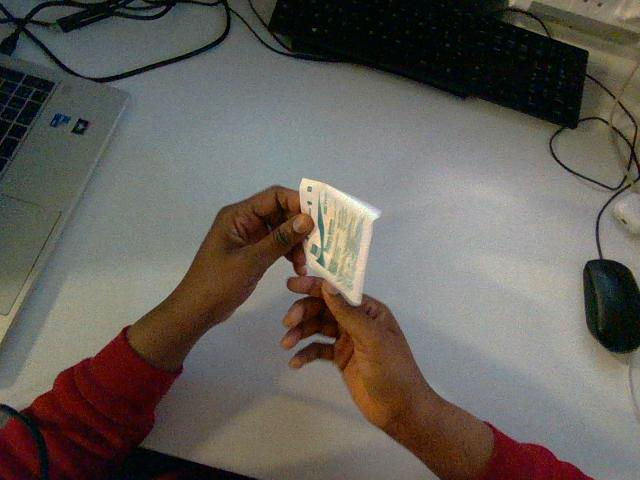gauze: (299, 179, 379, 304)
